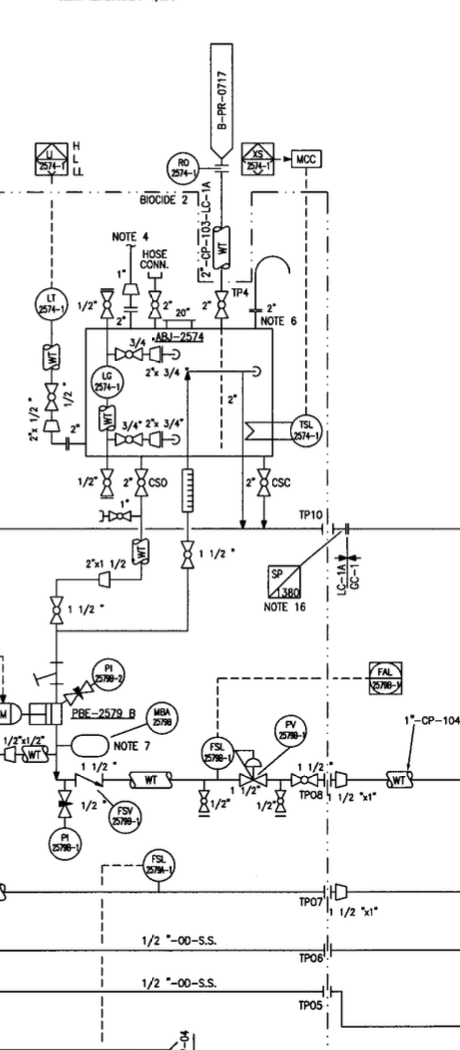Instrument: (101, 793, 145, 838), (142, 844, 182, 889), (196, 729, 237, 771), (30, 285, 72, 325), (288, 407, 323, 453), (87, 360, 127, 399), (271, 709, 312, 746), (46, 823, 84, 862), (164, 147, 203, 185), (141, 700, 182, 735), (88, 658, 128, 693)
Instrument-square: (362, 654, 409, 701), (27, 137, 71, 178), (238, 137, 278, 177)
